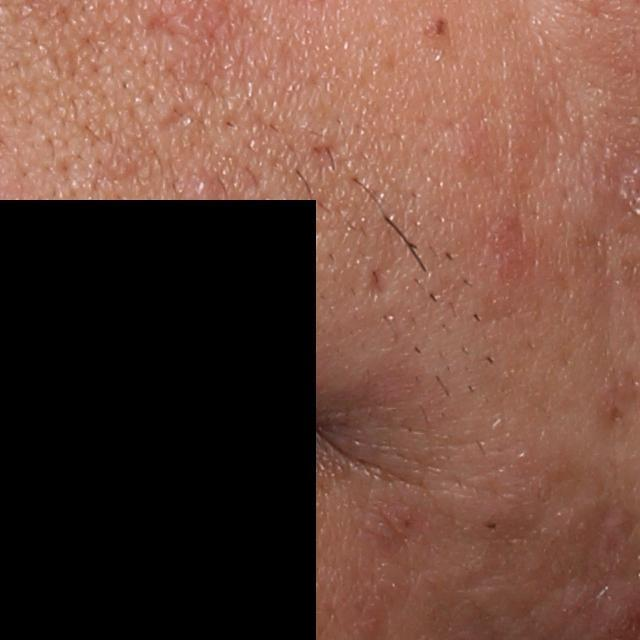atrophic_scar: (144, 10, 189, 65), (362, 262, 399, 302)
nevus: (425, 18, 452, 44)
